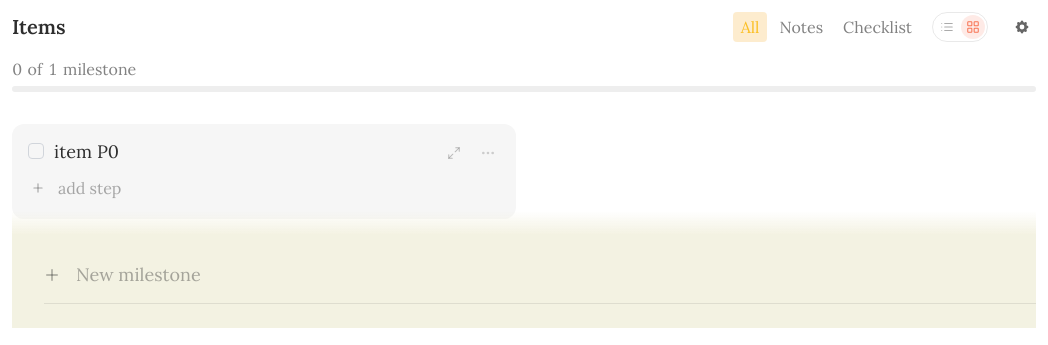
Test case: Todo new-milestone composer, when the plan moves under it › traced milestone lost (R38) › should name the milestone by its current title after a rename
Check: the text "item P0" is shown, box x1=54 y1=140 x2=119 y2=163
Click the button "New milestone" at (138, 274), box x1=44 y1=247 x2=1036 y2=304
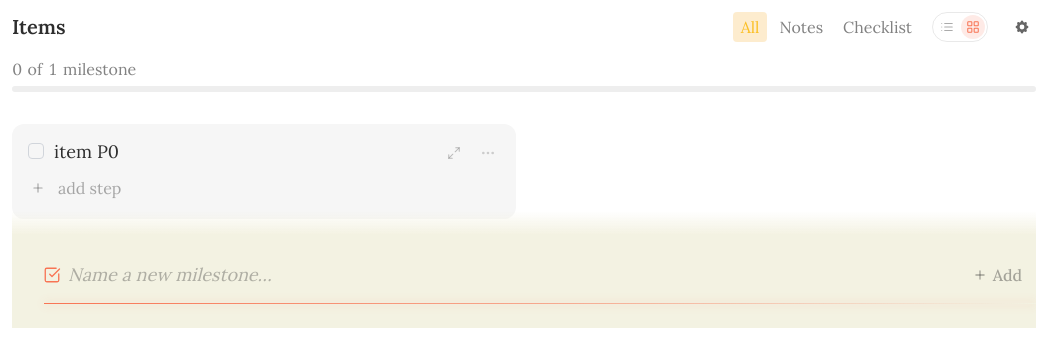
Type "Launch" into the field labelled "Name a new milestone…" at (507, 275), box x1=68 y1=259 x2=947 y2=291
Then press Enter
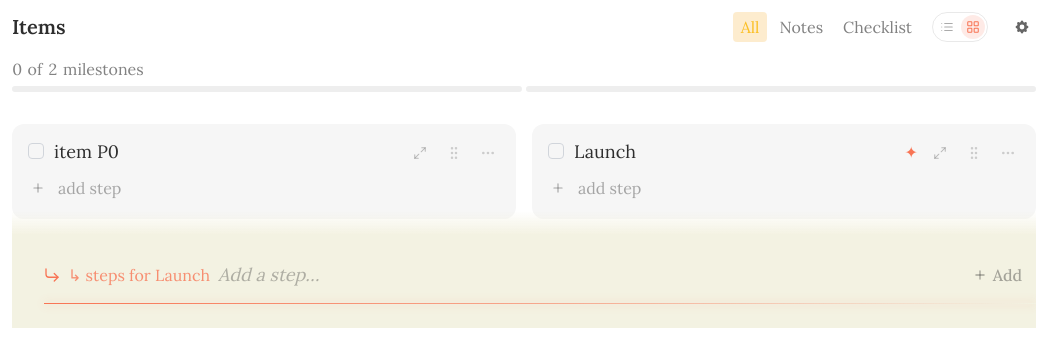
Check: the field named "Add a step to Launch" is shown, box x1=218 y1=259 x2=947 y2=291
Click the text "Launch" at (605, 152), box x1=574 y1=140 x2=636 y2=163
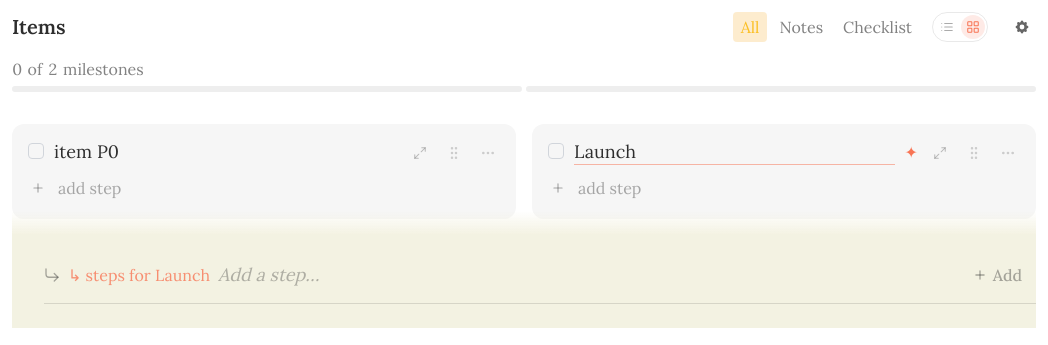
Replace the text in the field named "Rename Launch" with "Go live" at (734, 152), box x1=574 y1=140 x2=895 y2=165
Then press Enter
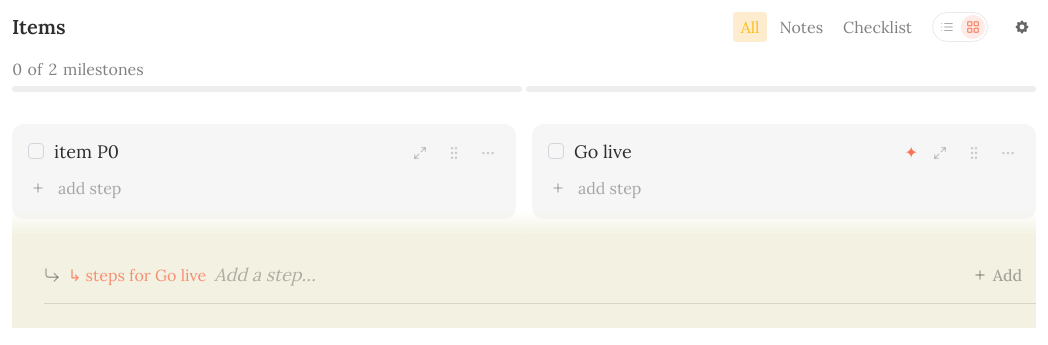
Check: the element showing "↳ steps for Go live Add" is shown, box x1=44 y1=247 x2=1036 y2=304
